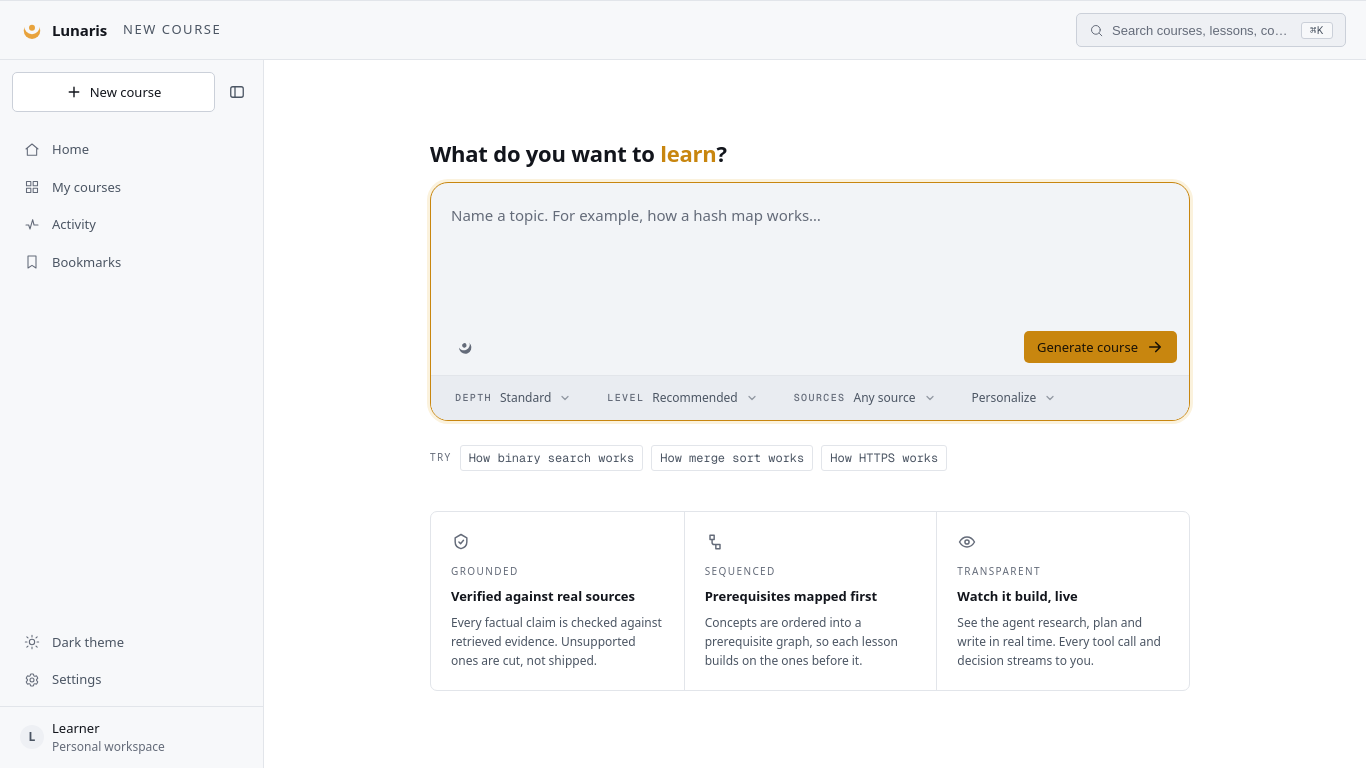
Scenario: Composer — the Studio | Live fork › stops promising a build in the explainer when Live is selected
Check: the list named "what a lunaris studio build does" is shown, box [430,511,1190,691]
Click the button named "live mode".
click(465, 347)  # box [443,331,487,363]
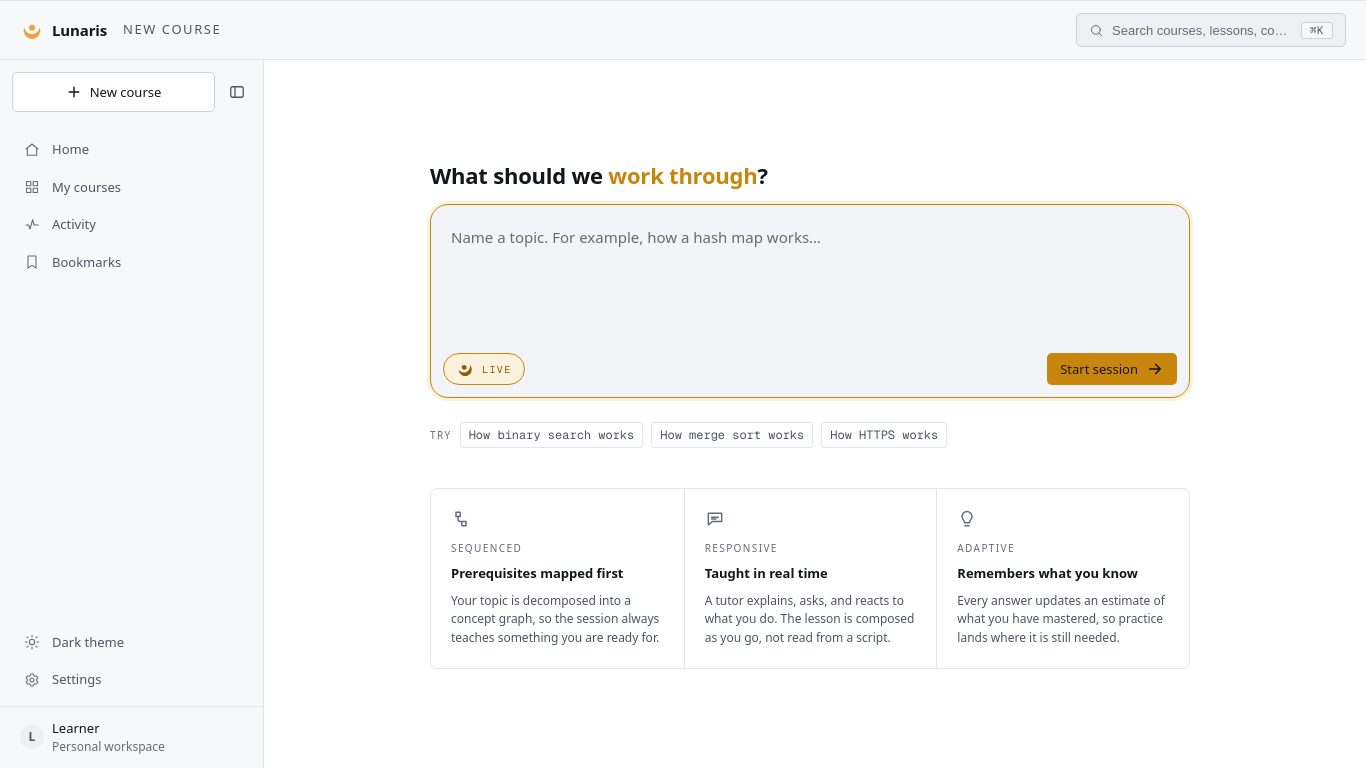
Check: the list named "what a lunaris live session does" is shown, box [430,488,1190,669]
Check: the heading "Watch it build" is gone
